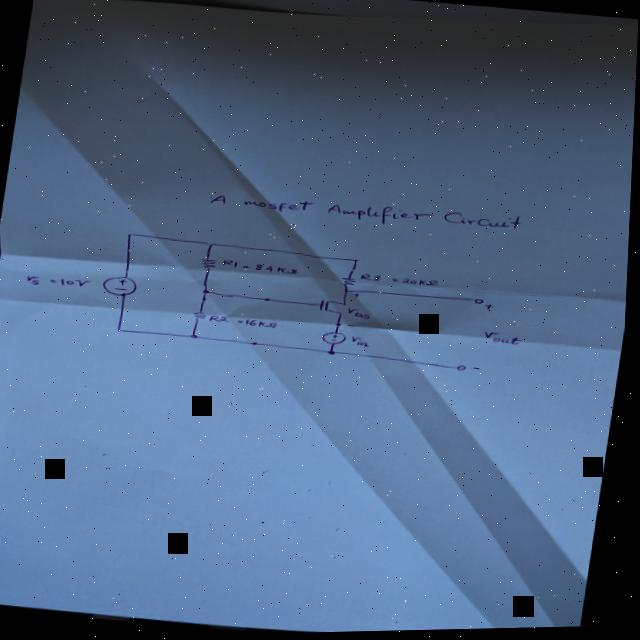junction: (202, 288, 213, 295), (190, 332, 201, 339), (327, 349, 338, 356), (207, 241, 217, 246), (126, 231, 134, 236), (116, 327, 124, 332), (354, 258, 362, 263), (344, 288, 352, 292)
resistor: (200, 256, 220, 270), (192, 309, 209, 322), (341, 276, 358, 288)
source: (101, 272, 142, 298), (322, 330, 349, 347)
terminal: (472, 298, 486, 305), (457, 365, 470, 372)
text: (207, 183, 525, 242), (221, 257, 302, 276), (359, 272, 442, 290), (208, 312, 281, 330), (24, 272, 93, 290), (482, 331, 526, 347), (347, 307, 374, 320), (351, 335, 374, 348), (484, 304, 497, 311), (352, 292, 363, 299), (473, 367, 485, 372), (347, 323, 357, 328)
transistor: (319, 298, 349, 315)
